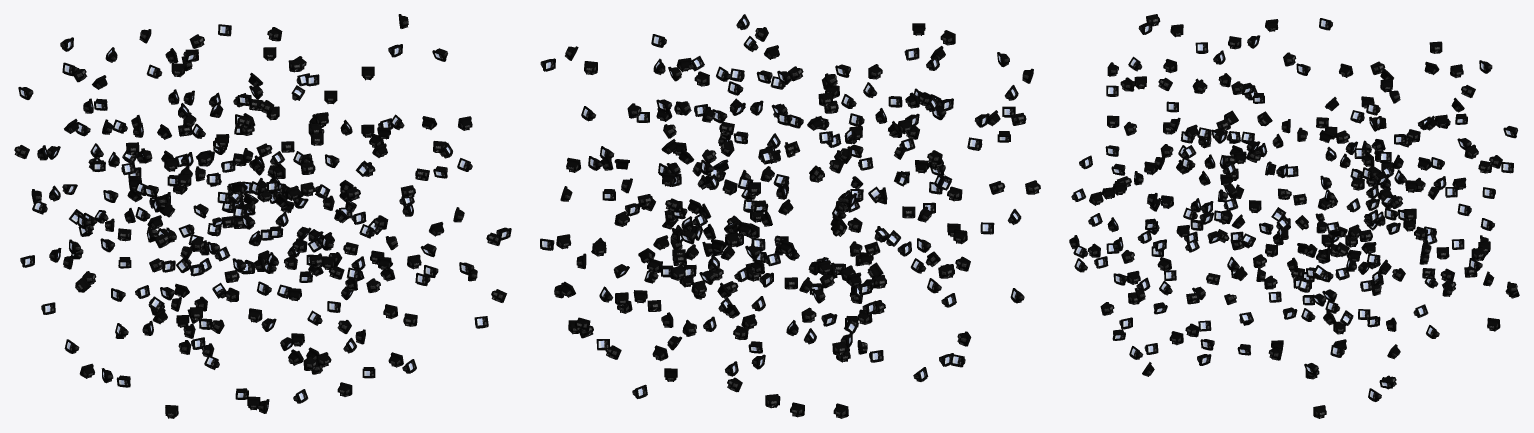
3 renders of one model, left to right at view 1: azimuth 30°, elevation 25°; view 2: azimuth 150°, elevation 25°; view 3: azimuth 270°, elevation 25°, orthographic. The views are drawn at different scales.
Parts seen in each view (by area): view 1: TVNS.001; view 2: TVNS.001; view 3: TVNS.001.
Part boxes in pixels (<box>): TVNS.001: <box>14,14,511,418</box>; TVNS.001: <box>540,14,1040,418</box>; TVNS.001: <box>1069,14,1519,418</box>.
Size of the model in its own units: 280 by 188 by 303.
2 materials, 2 textured.
